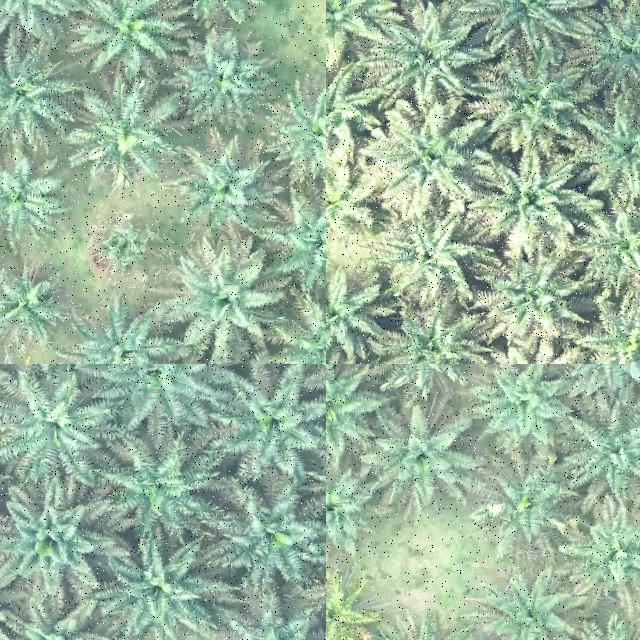Ganoderma: (326, 583, 363, 640)
